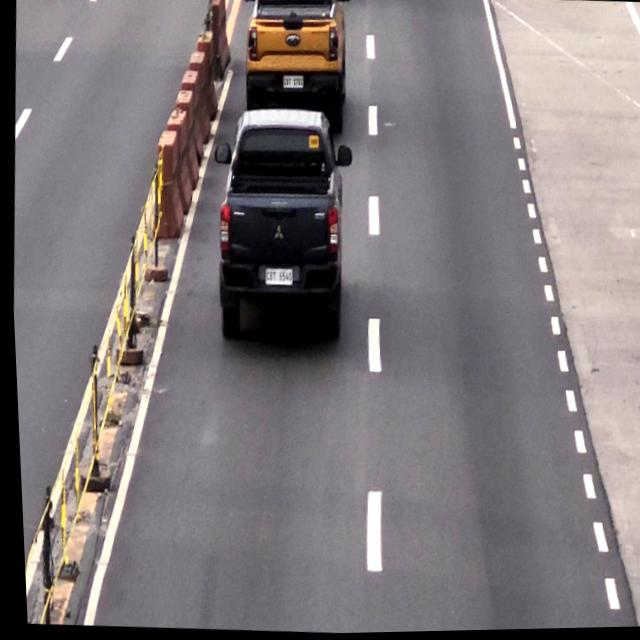Car: (216, 109, 345, 349)
License-Plate: (262, 268, 292, 288)
